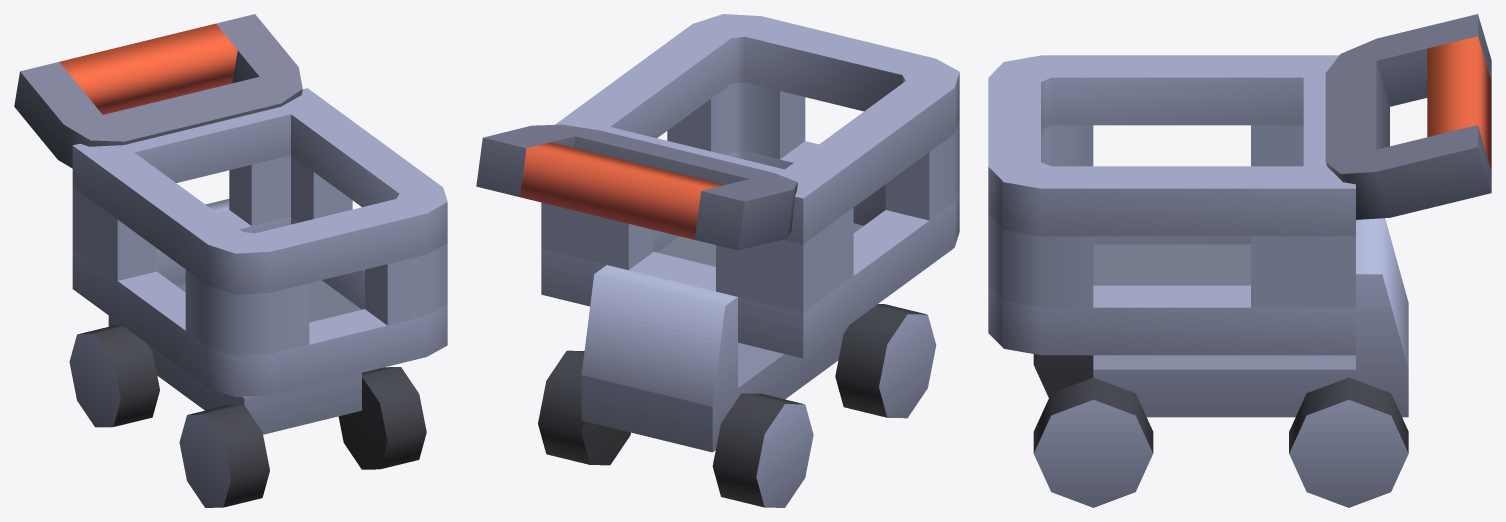
File: shopping_cart.glb
3 renders of one model, left to right at view 1: azimuth 30°, elevation 25°; view 2: azimuth 150°, elevation 25°; view 3: azimuth 270°, elevation 25°, orthographic. The views are drawn at different scales.
Visible parts, largest first — view 1: shopping-cart; view 2: shopping-cart; view 3: shopping-cart.
Boxes of the visible parts, box(x1,y1,x2,y2) form: shopping-cart: box(14, 14, 447, 507); shopping-cart: box(476, 14, 959, 507); shopping-cart: box(988, 14, 1491, 507).
Size of the model in its own units: 0.3 by 0.3906 by 0.4789.
Materials: 1 (1 with a texture image).
